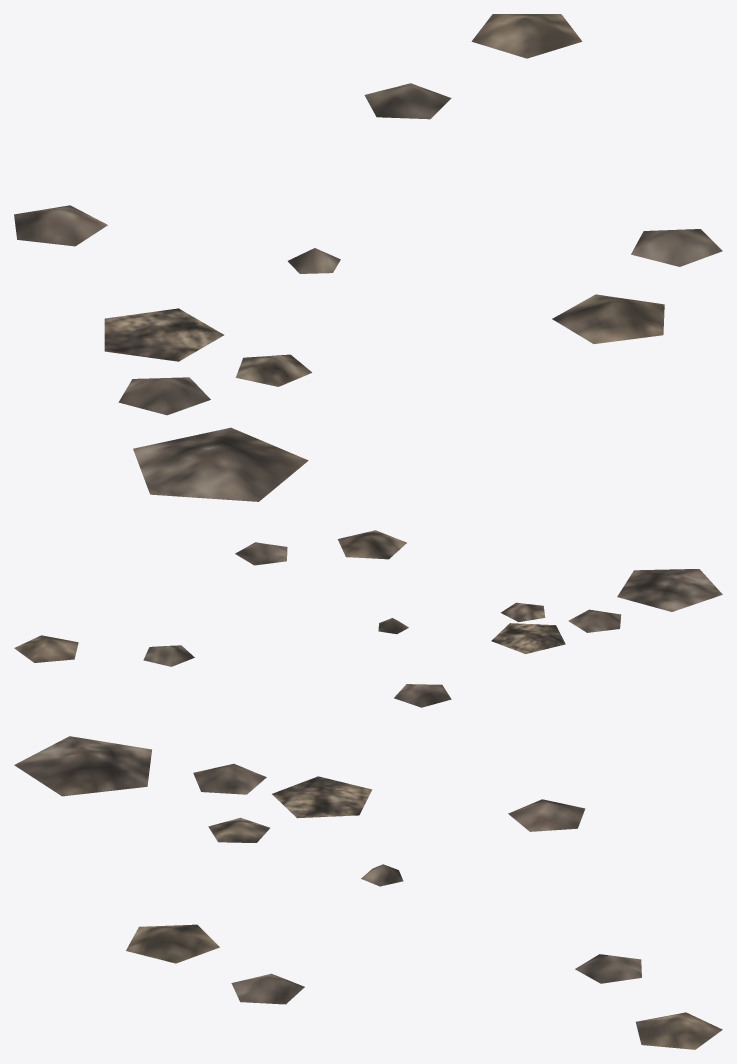
Rendered from rock_vfield3.glb.
3 views of the same model, one above another, from view 1: azimuth 30°, elevation 25°; view 2: azimuth 150°, elevation 25°; view 3: azimuth 270°, elevation 25° (orthographic). The views are drawn at different scales.
Visible parts, largest first — view 1: Rock_VField3; view 2: Rock_VField3; view 3: Rock_VField3.
Boxes of the visible parts, x1,y1,x2,y2 form: Rock_VField3: [14, 14, 722, 501]; Rock_VField3: [14, 530, 722, 707]; Rock_VField3: [14, 736, 722, 1049].
Size of the model in its own units: 21.98 by 0.6326 by 20.99.
Materials: 1 (1 with a texture image).
